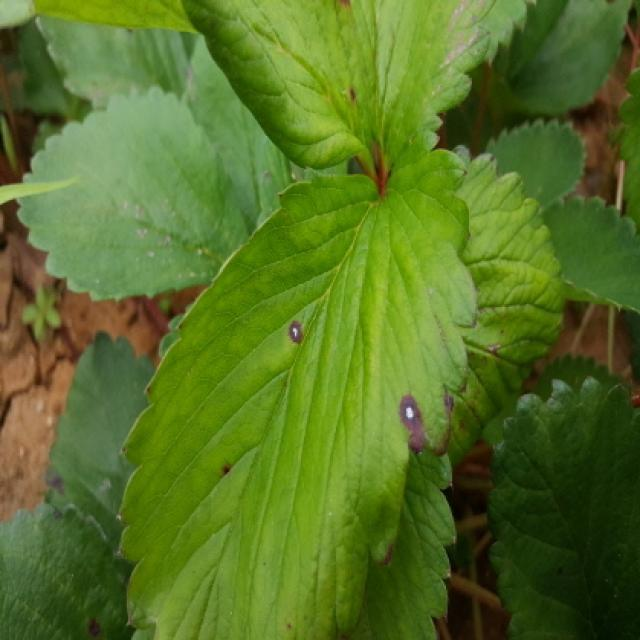Leaf Spot: (111, 148, 479, 638), (179, 0, 529, 193), (449, 145, 566, 474), (41, 331, 156, 545), (0, 500, 135, 638)
